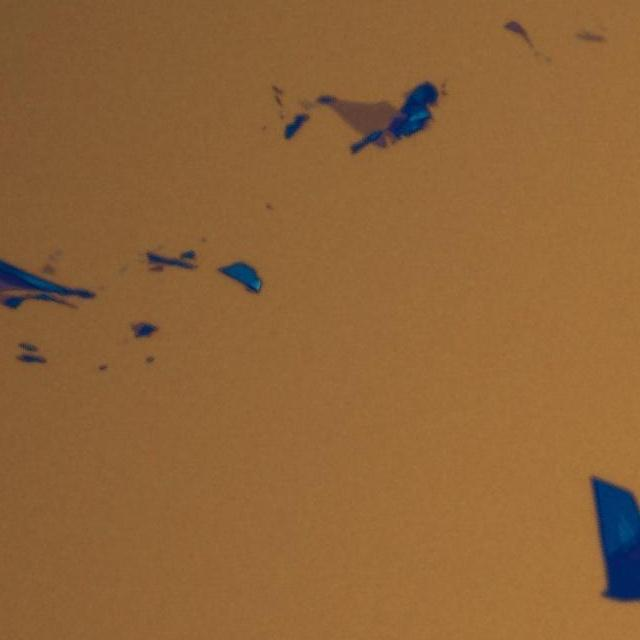monolayer-eWW4: (328, 99, 398, 135)
